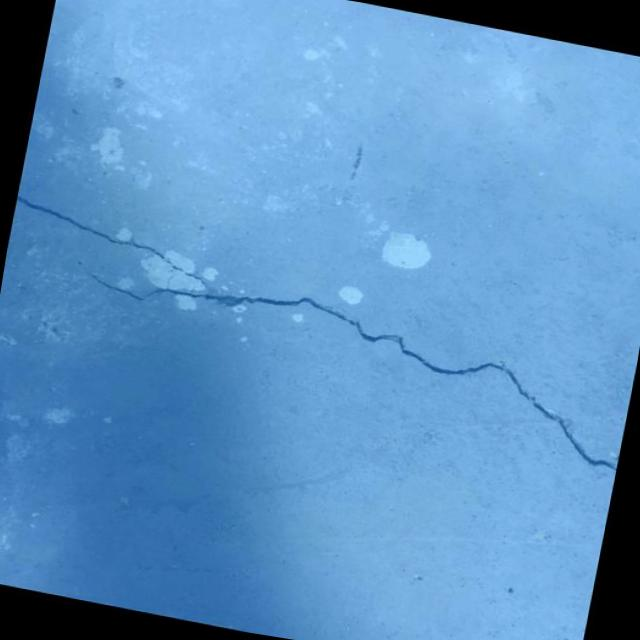crack: (0, 194, 640, 473)
